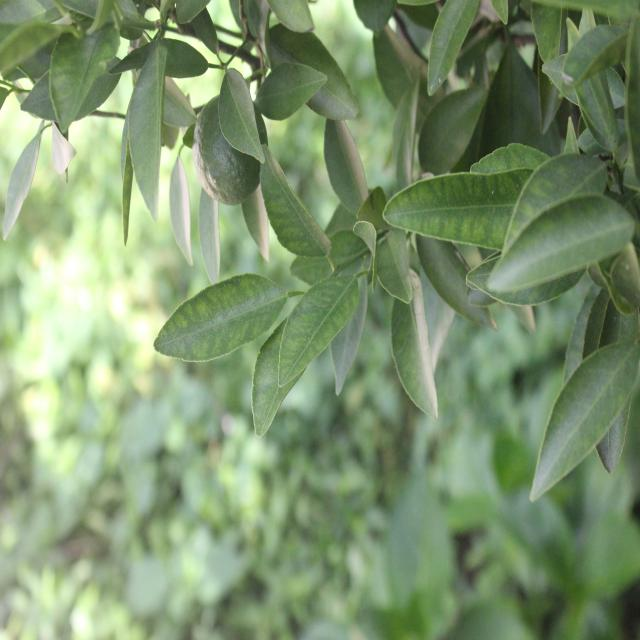greening: (386, 157, 535, 255), (276, 268, 362, 396), (153, 273, 286, 353), (267, 148, 328, 260)
